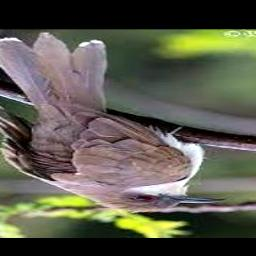Cuckoo: (0, 34, 224, 213)
